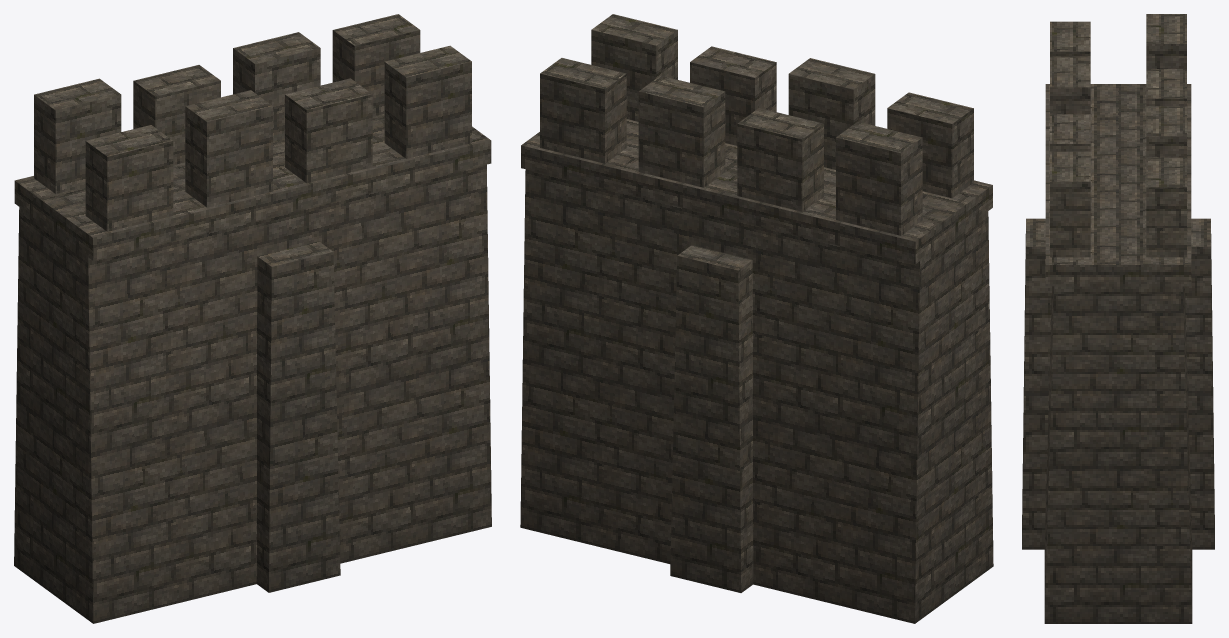
Rendered from curtain_wall.glb.
The picture shows the model from 3 angles, left to right: view 1: azimuth 30°, elevation 25°; view 2: azimuth 150°, elevation 25°; view 3: azimuth 270°, elevation 25°; orthographic projection. The views are drawn at different scales.
Visible parts, largest first — view 1: curtain_wall; view 2: curtain_wall; view 3: curtain_wall.
Boxes of the visible parts, <box> form: curtain_wall: <box>14,14,491,623</box>; curtain_wall: <box>520,14,993,623</box>; curtain_wall: <box>1022,14,1214,623</box>.
Bounding box in the file's own units: 4 × 4.52 × 1.8.
1 material, 1 textured.
